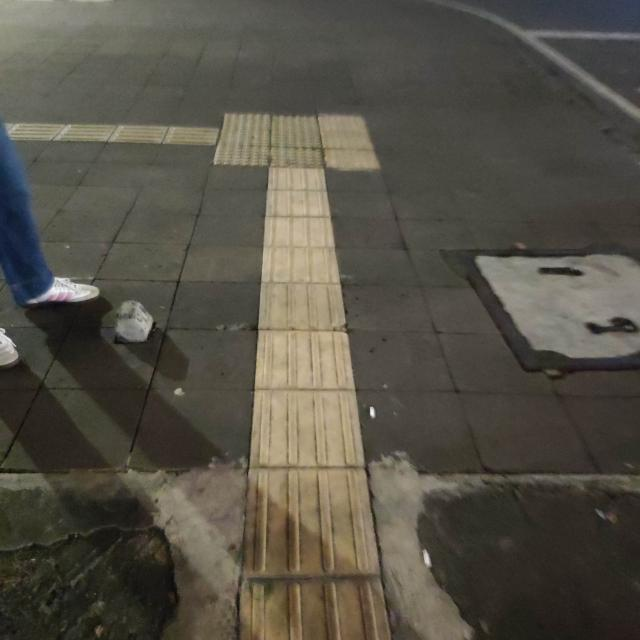kiri: (125, 91, 356, 213)
